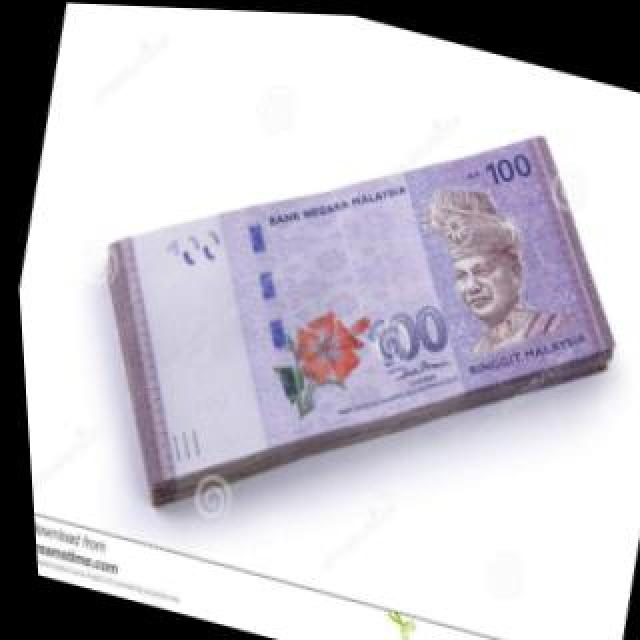100 Ringgit: (32, 20, 639, 619)
